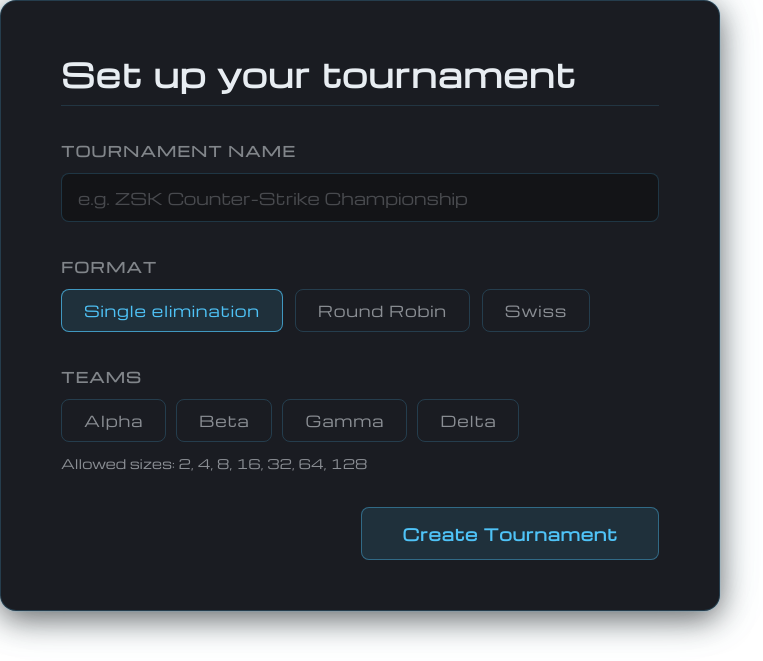
Scenario: TournamentForm › hides allowed-sizes hint after switching to Round Robin
The image size is (763, 661).
Click the button "Round Robin": [382, 310] box [295,289,470,332]
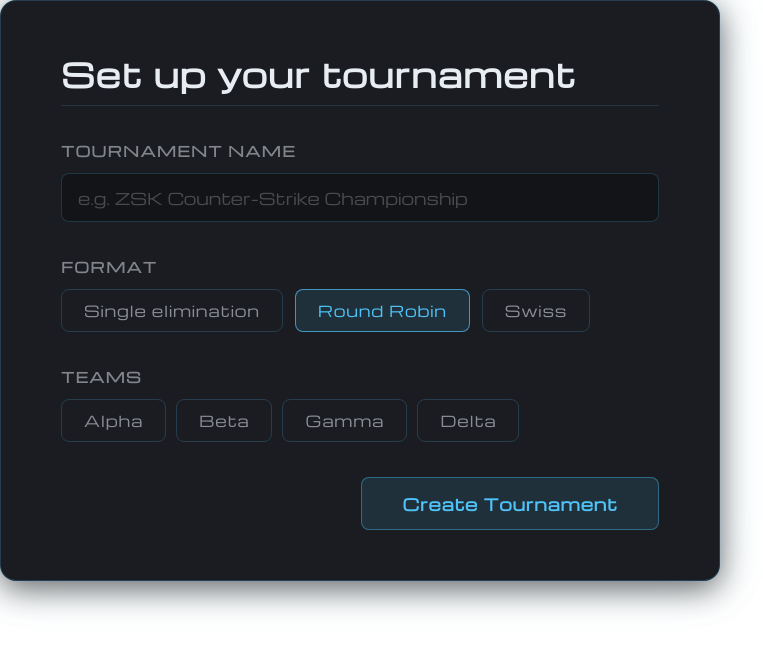
Now the text "Allowed sizes: 2, 4, 8, 16, 32, 64, 128" is gone
